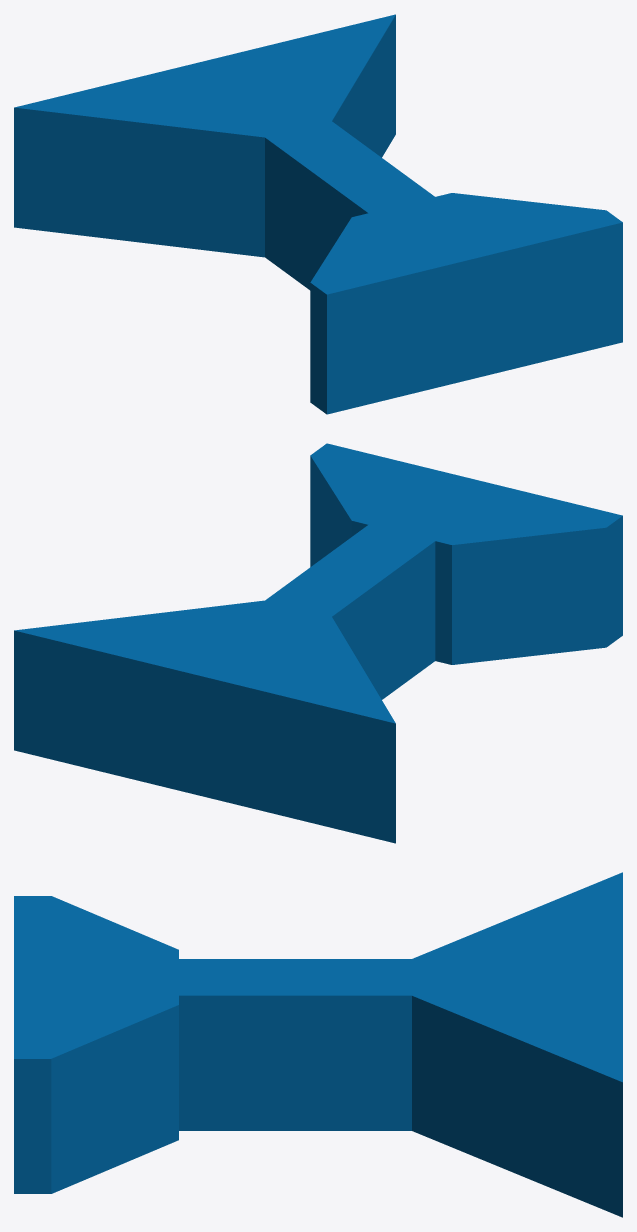
The model's file is vention_tower.obj.
3 views of the same model, one above another, from view 1: azimuth 30°, elevation 25°; view 2: azimuth 150°, elevation 25°; view 3: azimuth 270°, elevation 25° (orthographic). The views are drawn at different scales.
Parts seen in each view (by area): view 1: Buttress, Shoulders, Tower; view 2: Buttress, Shoulders, Tower; view 3: Buttress, Shoulders, Tower.
Boxes of the visible parts, left/top/right/bottom form: Buttress: left=14, top=14, right=395, bottom=257; Shoulders: left=310, top=193, right=622, bottom=414; Tower: left=265, top=121, right=434, bottom=290; Buttress: left=14, top=600, right=395, bottom=843; Shoulders: left=310, top=443, right=622, bottom=664; Tower: left=265, top=525, right=435, bottom=699; Buttress: left=412, top=872, right=622, bottom=1217; Shoulders: left=14, top=896, right=178, bottom=1193; Tower: left=179, top=959, right=411, bottom=1130.
Bounding box in the file's own units: 0.8 × 0.24 × 0.979.
